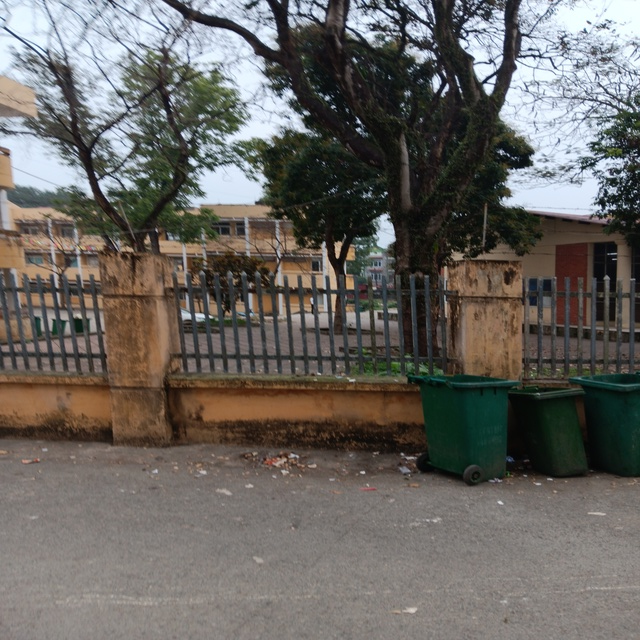thungrac: (408, 371, 511, 488), (504, 379, 590, 488), (589, 370, 640, 483)
